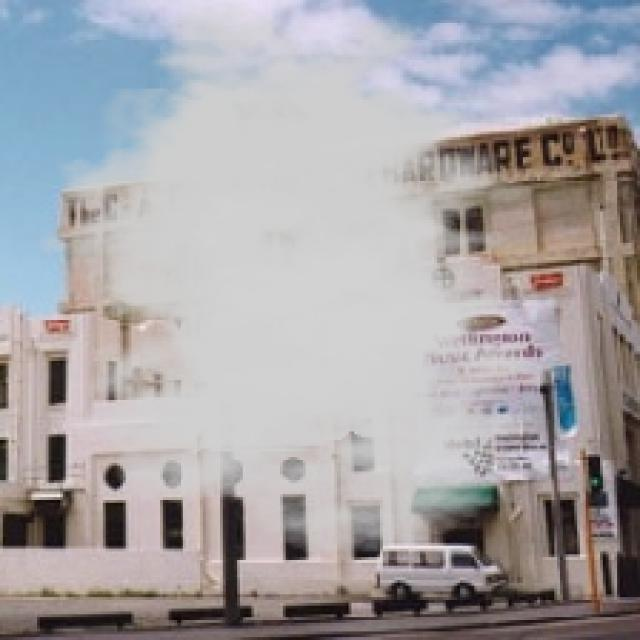smoke: (28, 0, 595, 555)
